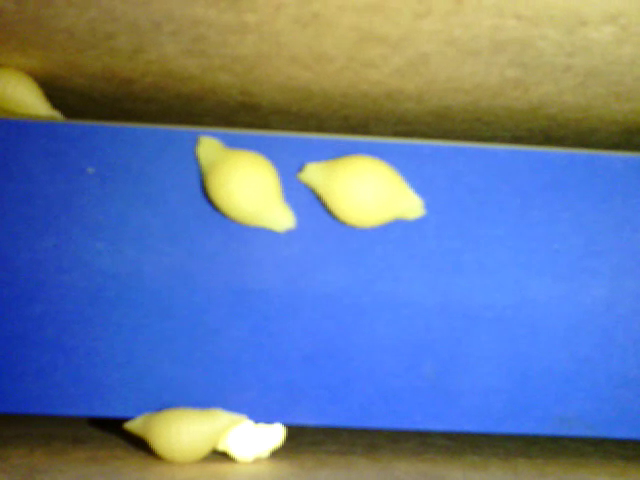shell: (194, 133, 298, 234), (303, 157, 434, 229), (124, 403, 242, 466), (3, 64, 66, 124)
